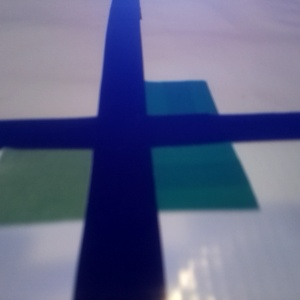top_right: (49, 30, 135, 65)
